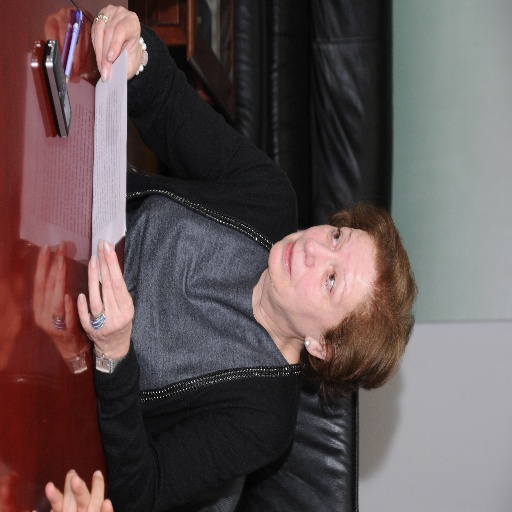hand: (77, 238, 133, 358), (83, 4, 150, 84), (32, 469, 104, 511), (44, 473, 112, 511)
